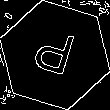P_S: (29, 25, 81, 85)
